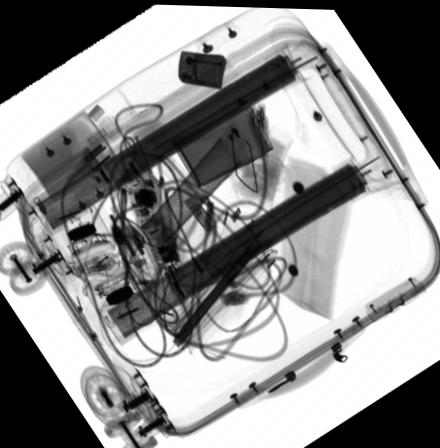Lighter: (176, 48, 226, 88)
